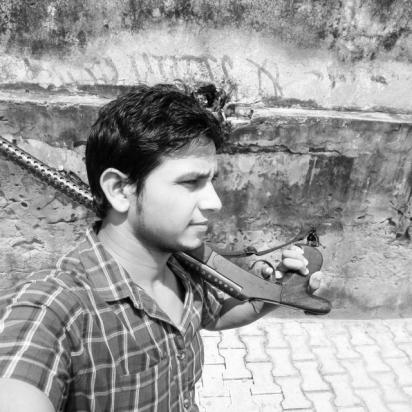Gun: (0, 136, 335, 318)
